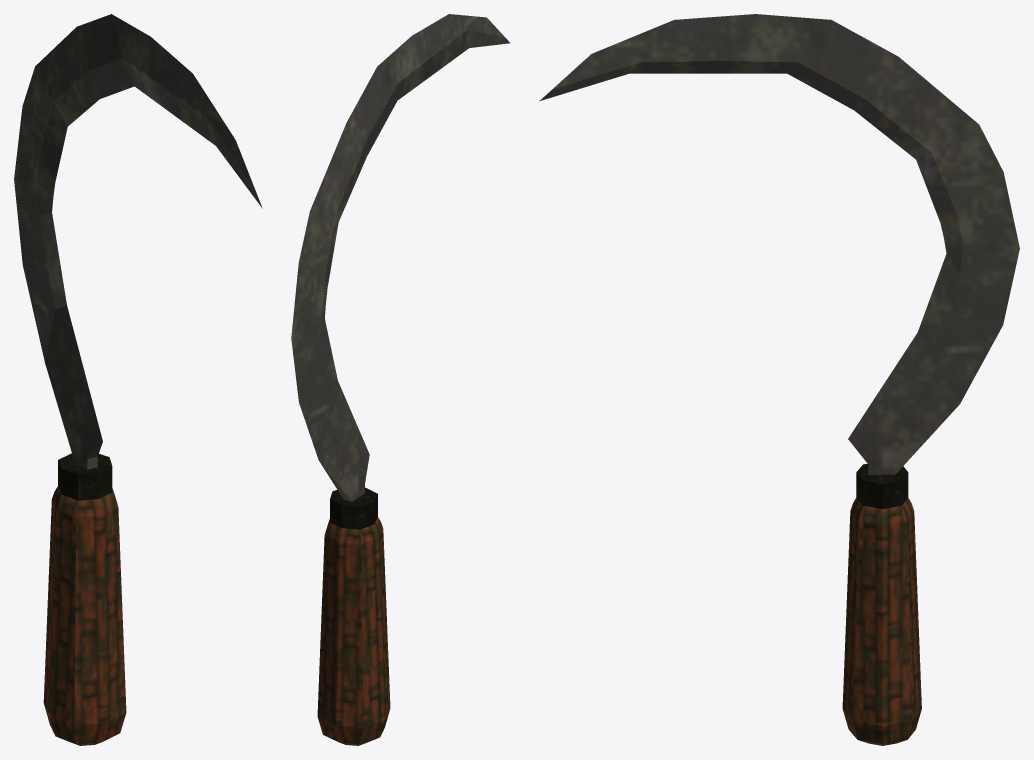
File: arit.fbx
3 renders of one model, left to right at view 1: azimuth 30°, elevation 25°; view 2: azimuth 150°, elevation 25°; view 3: azimuth 270°, elevation 25°, orthographic. The views are drawn at different scales.
Visible parts, largest first — view 1: Cube.001; view 2: Cube.001; view 3: Cube.001.
Boxes of the visible parts, <box> form: Cube.001: <box>14,14,262,745</box>; Cube.001: <box>291,14,510,745</box>; Cube.001: <box>539,14,1019,745</box>.
Size of the model in its own units: 5.43 by 54.01 by 32.53.
